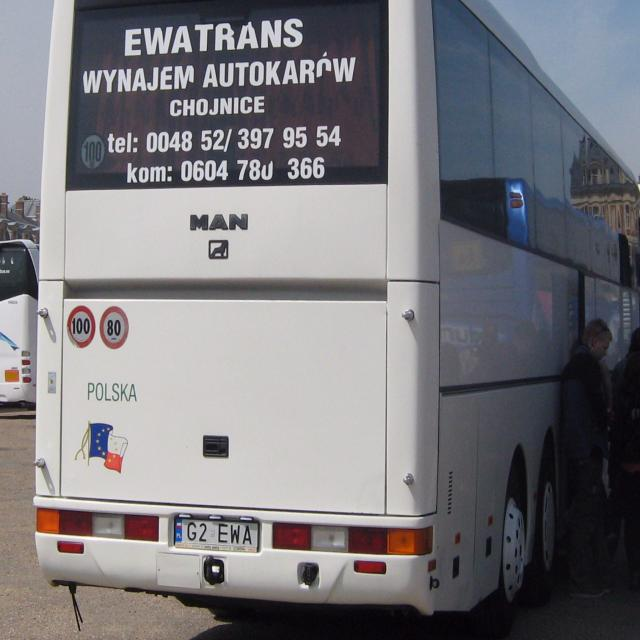pl_license_plate: (174, 517, 258, 547)
